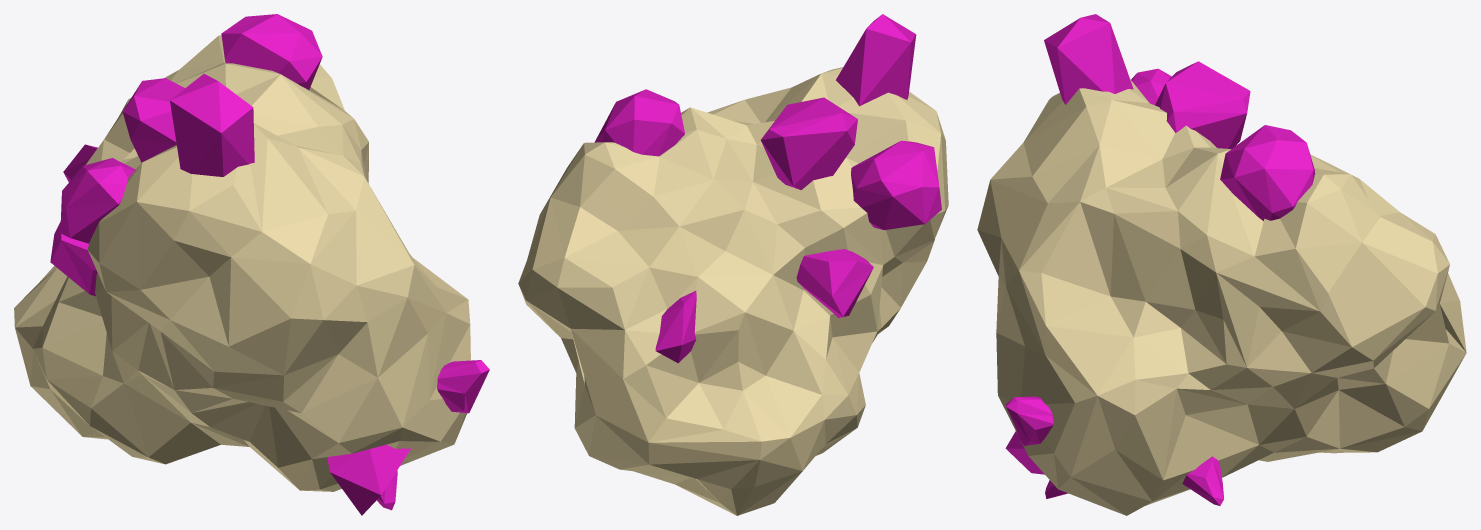
File: CrystalOre (16).fbx
3 views of the same model, side by side, from view 1: azimuth 30°, elevation 25°; view 2: azimuth 150°, elevation 25°; view 3: azimuth 270°, elevation 25° (orthographic). The views are drawn at different scales.
Parts seen in each view (by area): view 1: Asteroid236; view 2: Asteroid236; view 3: Asteroid236.
Boxes of the visible parts, x1,y1,x2,y2 form: Asteroid236: [14, 14, 489, 515]; Asteroid236: [518, 14, 948, 515]; Asteroid236: [977, 14, 1466, 515].
Size of the model in its own units: 322 by 390 by 408.
